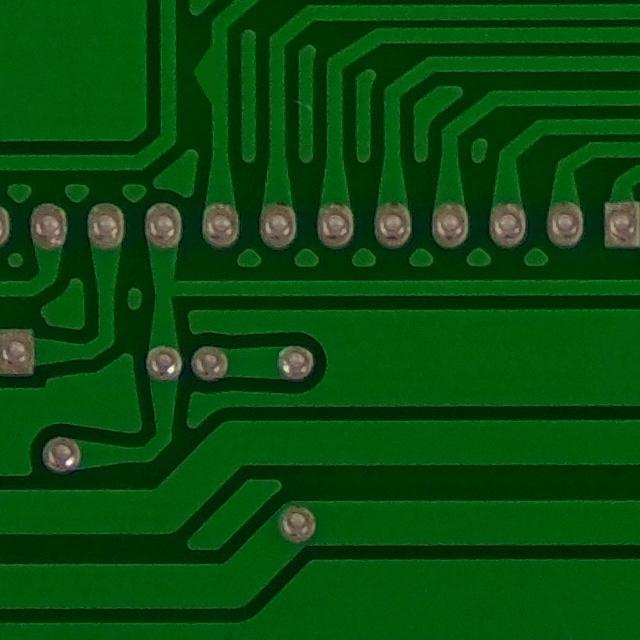spur: (187, 31, 230, 112)
